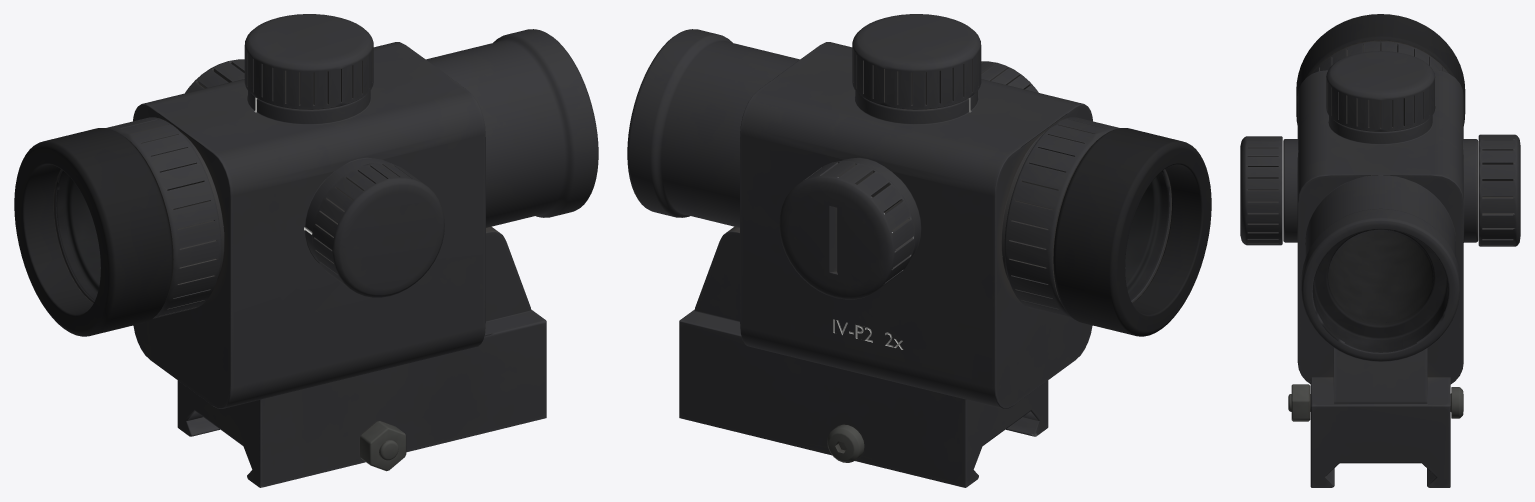
The model's file is SM_IVP2_Prism.fbx.
3 views of the same model, side by side, from view 1: azimuth 30°, elevation 25°; view 2: azimuth 150°, elevation 25°; view 3: azimuth 270°, elevation 25° (orthographic). The views are drawn at different scales.
Visible parts, largest first — view 1: SM_IVP2_Prism; view 2: SM_IVP2_Prism; view 3: SM_IVP2_Prism.
Boxes of the visible parts, <box> form: SM_IVP2_Prism: <box>14,14,598,487</box>; SM_IVP2_Prism: <box>627,14,1211,487</box>; SM_IVP2_Prism: <box>1240,14,1520,487</box>.
Bounding box in the file's own units: 9.25 × 7.22 × 5.41.
Materials: 4 (2 with a texture image).
